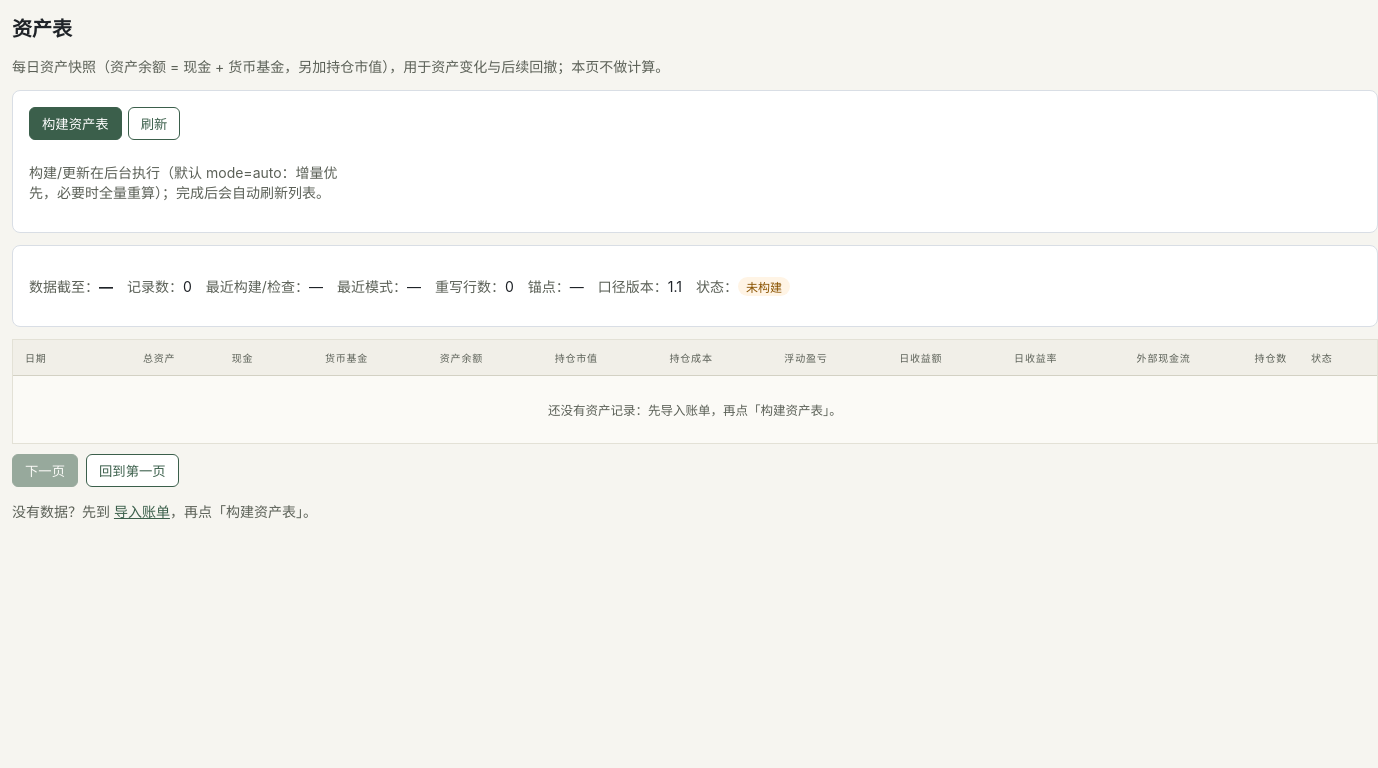
Test: Assets 资产表页 › FT-03 no-op 提示：last_mode=noop 展示「已是最新」
Click the button "构建资产表" at point(75, 124), box [29,107,122,140]
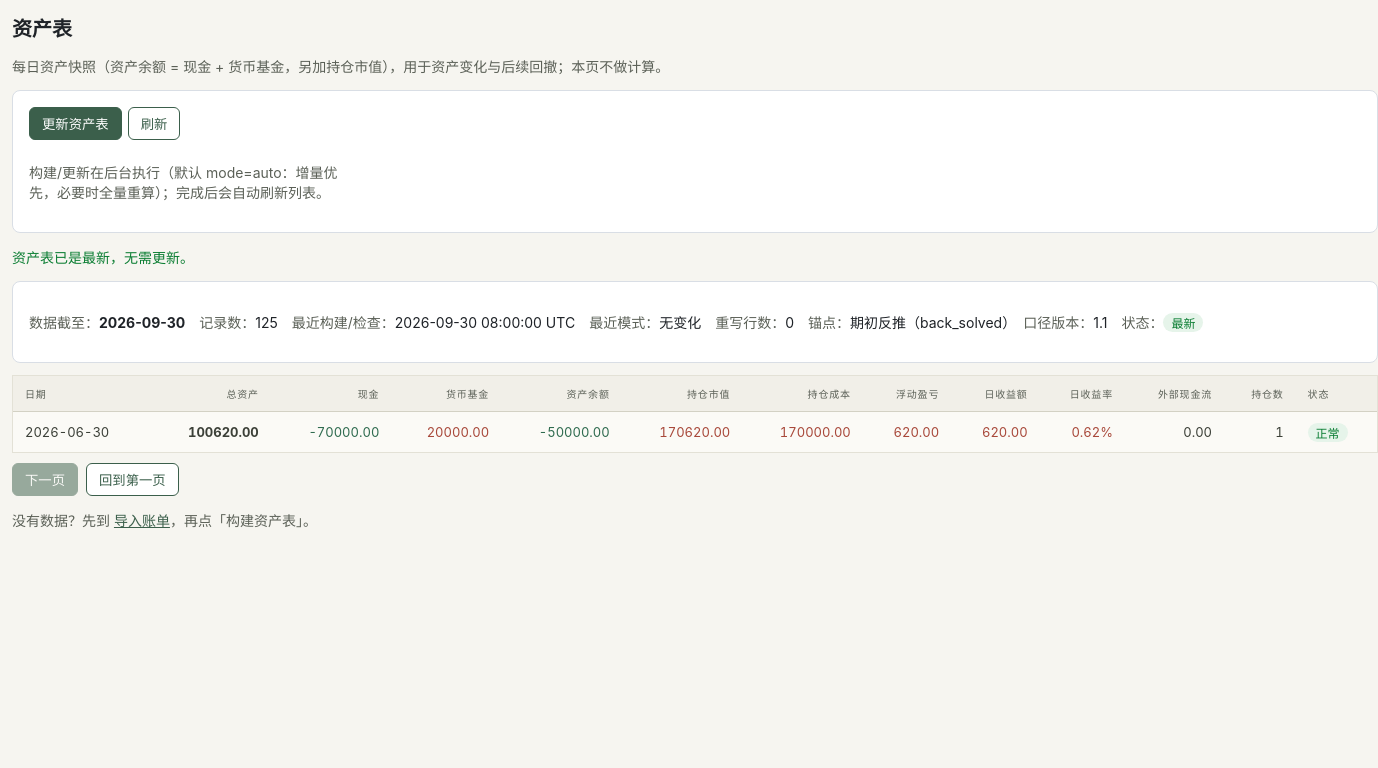
Expected: the text "资产表已是最新，无需更新。" is shown, [12,249,194,266]
